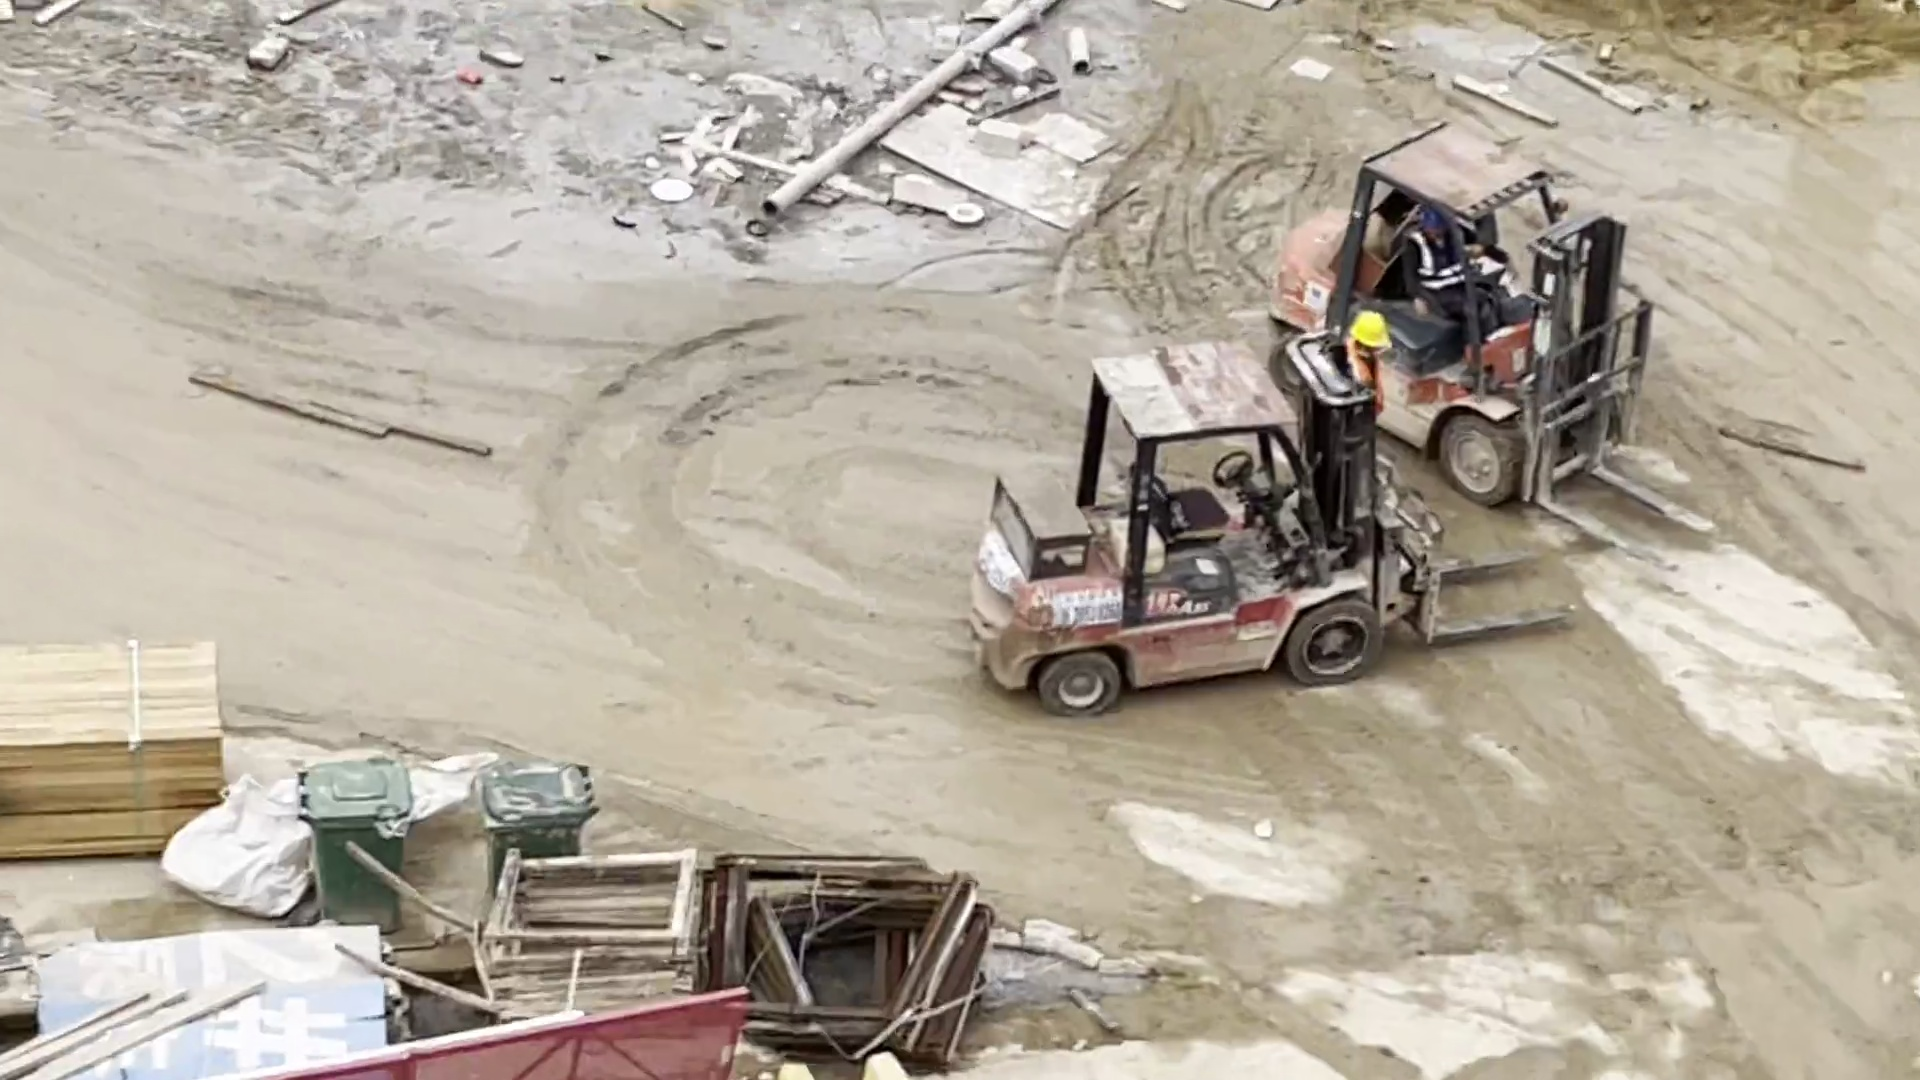helmet: (1349, 310, 1389, 348), (1419, 204, 1440, 229)
person: (1403, 195, 1514, 338), (1334, 295, 1395, 417)
vest: (1406, 233, 1474, 288), (1344, 342, 1386, 412)
